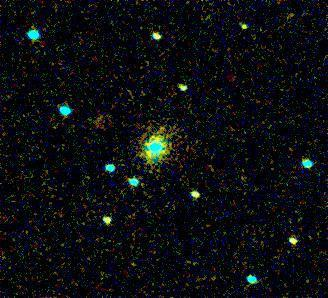star: (228, 10, 258, 40)
